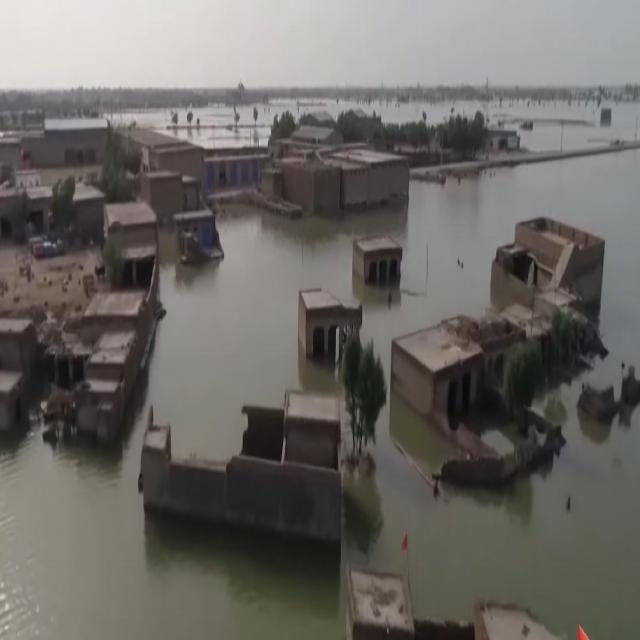flood: (0, 150, 640, 640), (257, 98, 640, 144), (110, 108, 253, 147), (520, 122, 640, 151), (192, 106, 233, 124), (238, 105, 254, 122)
house: (342, 563, 572, 640), (54, 277, 154, 449), (488, 214, 609, 309), (398, 320, 486, 440), (277, 142, 400, 220), (282, 388, 344, 477), (298, 280, 360, 362), (468, 594, 575, 640), (102, 203, 162, 279), (353, 232, 408, 292), (41, 118, 109, 166), (208, 144, 266, 191)
